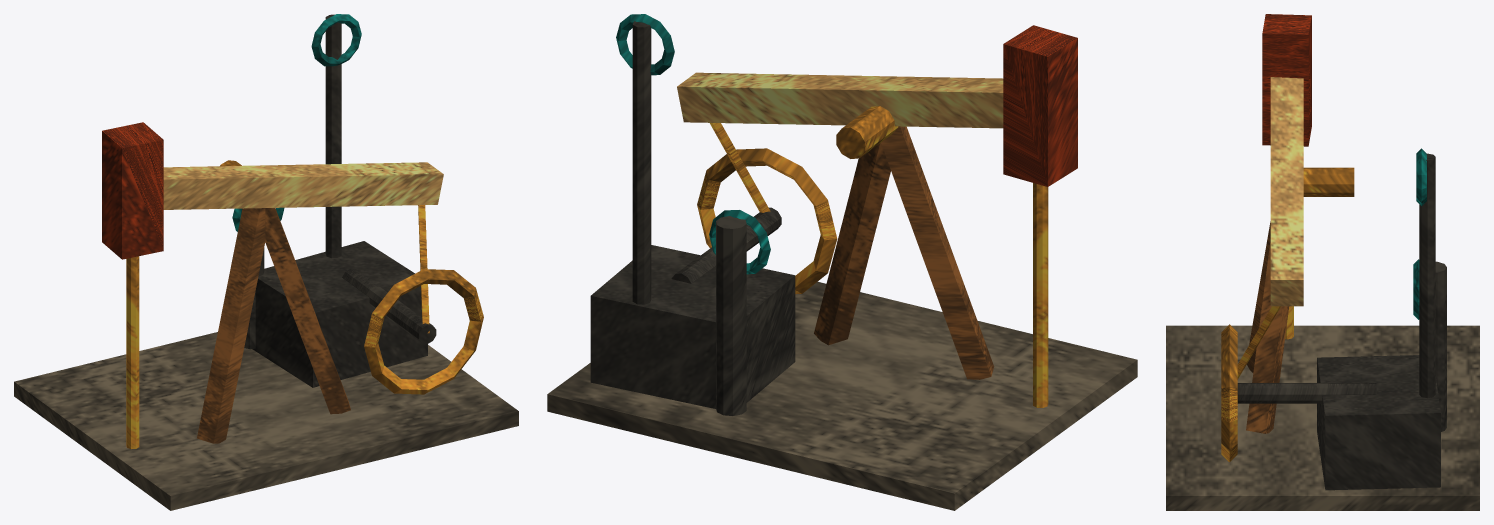
File: derrick-06.glb
The picture shows the model from 3 angles, left to right: view 1: azimuth 30°, elevation 25°; view 2: azimuth 150°, elevation 25°; view 3: azimuth 270°, elevation 25°; orthographic projection. The views are drawn at different scales.
Parts seen in each view (by area): view 1: derrick-06; view 2: derrick-06; view 3: derrick-06.
Part boxes in pixels (x1,y1,x2,y2): derrick-06: [14, 14, 518, 510]; derrick-06: [547, 14, 1137, 510]; derrick-06: [1166, 14, 1479, 510].
Bounding box in the file's own units: 5.4 × 4.92 × 4.2.
1 material, 1 textured.
